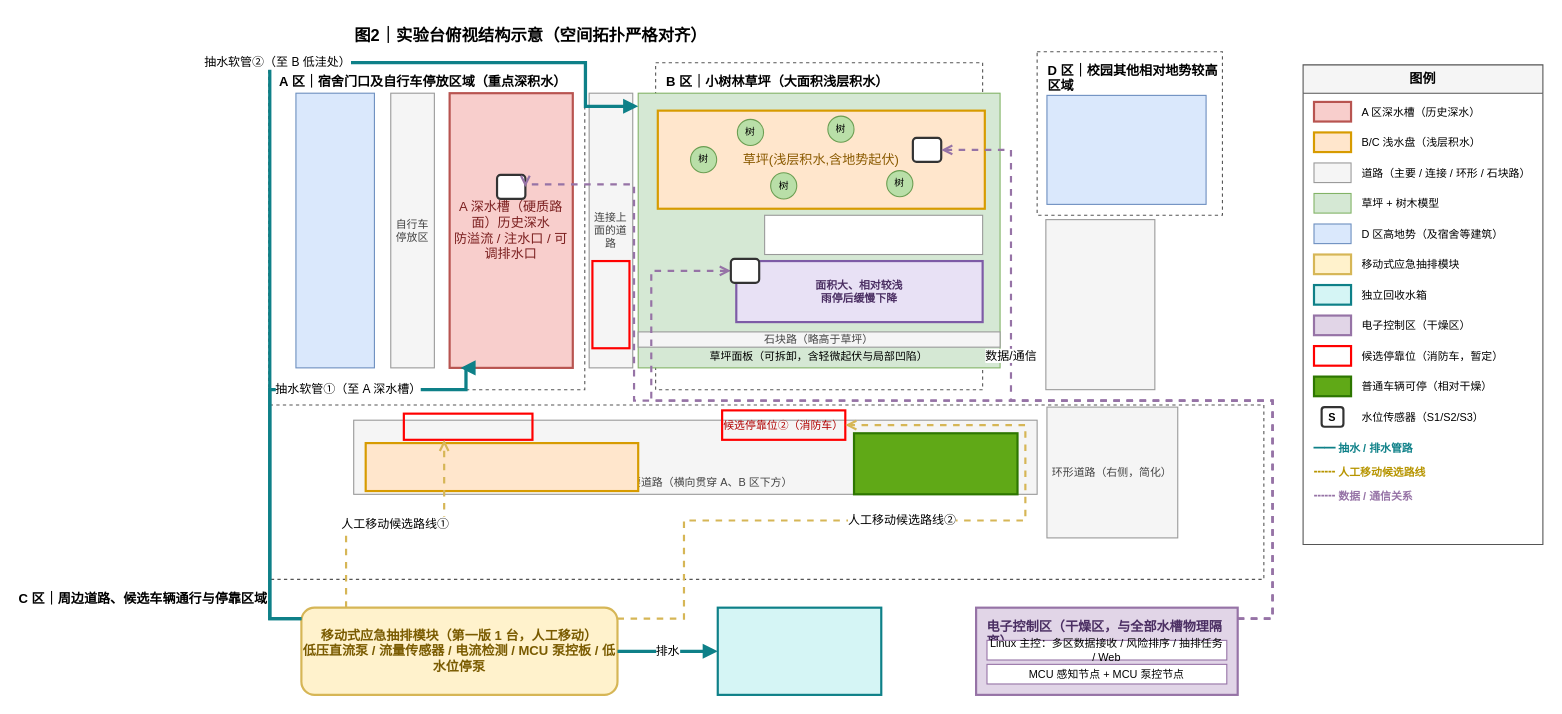
This 1562x714 diagram has some shape labels left out. Each missing label, with the centre of its shape:
S1: the point at 510,186
S2: the point at 744,270
S3: the point at 926,149
下坡道路 （B 区右侧，可见高低差）: the point at 1100,304
低洼处（积水较深） 草坪边缘/较高处（浅或无水）: the point at 873,234
候选停靠位3（消防车）: the point at 610,304
候选停靠位①（消防车）: the point at 467,426
宿舍建筑 模型板: the point at 334,230
普通车辆可停 （相对干燥，不受积水影响）: the point at 935,463
独立回收水箱 可拆卸排空 / 液位观察 / 防溢流: the point at 799,650
道路浅层积水（独立浅水盘，可单独清空）对应图1浅层积水: the point at 501,466
高地势平台（抬高） 地势较高、不易积水 具体建筑设施不在本图范围: the point at 1126,149
